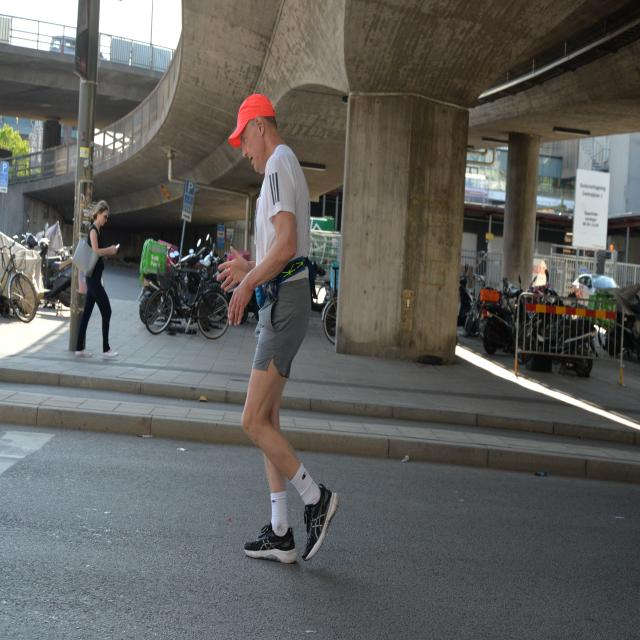runner-detect: (208, 78, 347, 572)
